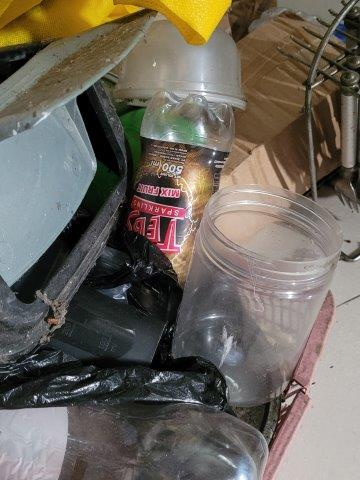botolplastik: (129, 91, 236, 283)
